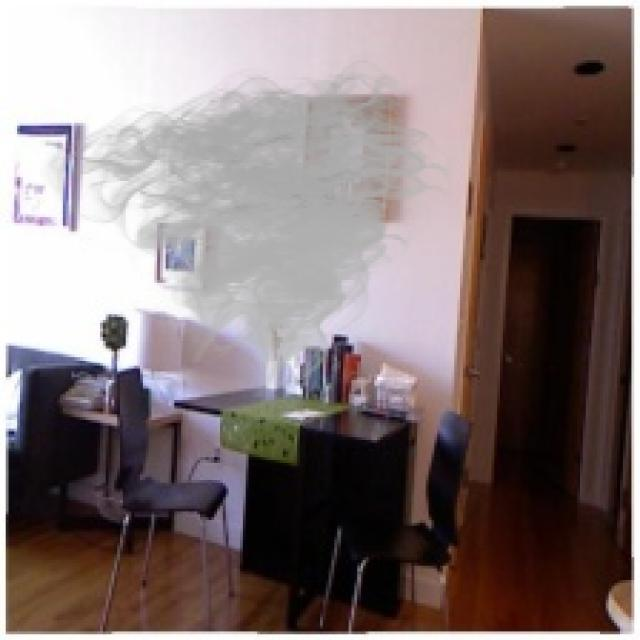smoke: (40, 52, 466, 397)
